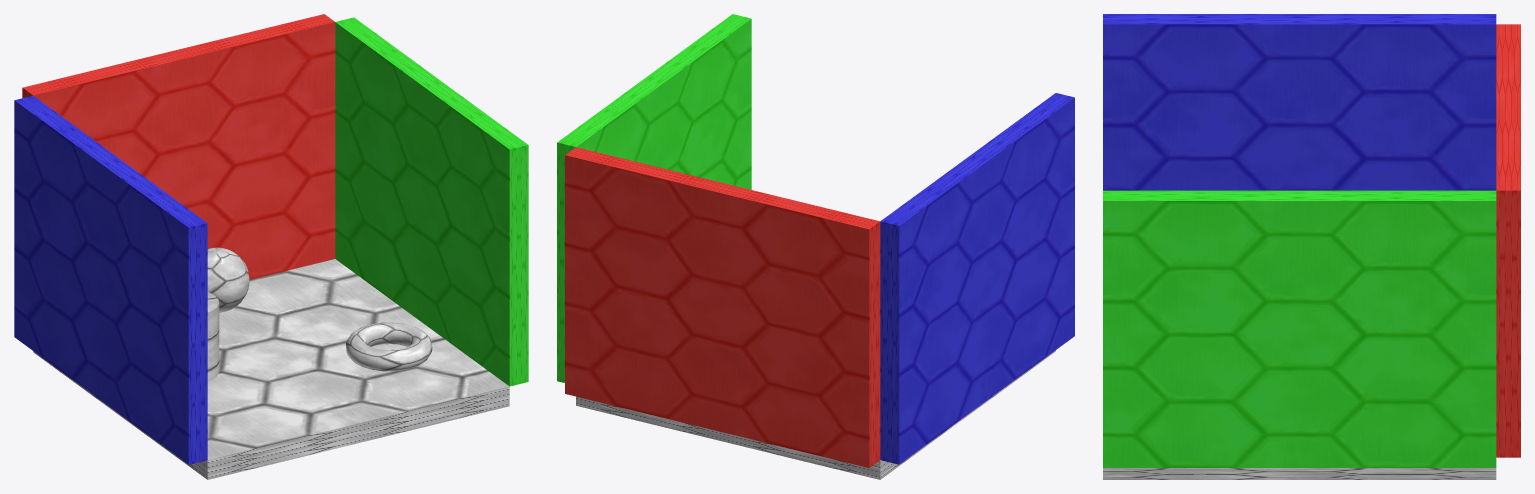
File: Box_Lightmap.fbx
The picture shows the model from 3 angles, left to right: view 1: azimuth 30°, elevation 25°; view 2: azimuth 150°, elevation 25°; view 3: azimuth 270°, elevation 25°; orthographic projection. The views are drawn at different scales.
Visible parts, largest first — view 1: polySurface14, polySurface18, polySurface16, polySurface19, polySurface11, polySurface12, pCylinder1; view 2: polySurface16, polySurface14, polySurface18, polySurface19; view 3: polySurface18, polySurface14, polySurface16, polySurface19.
Part boxes in pixels (x1,y1,x2,y2): polySurface14: [14, 95, 207, 464]; polySurface18: [335, 17, 528, 386]; polySurface16: [22, 14, 335, 279]; polySurface19: [33, 259, 509, 479]; polySurface11: [345, 322, 432, 371]; polySurface12: [207, 247, 249, 312]; pCylinder1: [207, 292, 219, 381]; polySurface16: [565, 147, 880, 467]; polySurface14: [880, 93, 1074, 464]; polySurface18: [557, 14, 751, 382]; polySurface19: [576, 350, 1055, 479]; polySurface18: [1103, 190, 1496, 467]; polySurface14: [1103, 14, 1496, 190]; polySurface16: [1496, 24, 1520, 457]; polySurface19: [1103, 468, 1496, 479].
Bounding box in the file's own units: 9 × 6.5 × 8.5.
Materials: 4 (4 with a texture image).
